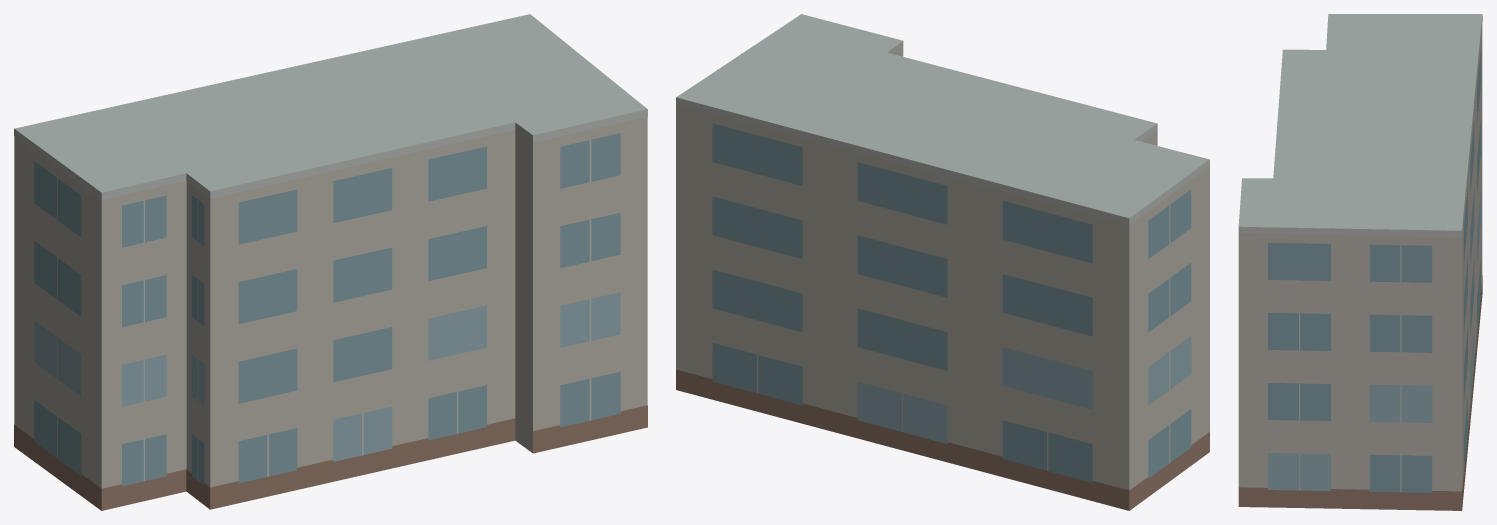
Rendered from survey-upis-33007770.glb.
The picture shows the model from 3 angles, left to right: view 1: azimuth 30°, elevation 25°; view 2: azimuth 150°, elevation 25°; view 3: azimuth 270°, elevation 25°; orthographic projection. The views are drawn at different scales.
Parts seen in each view (by area): view 1: survey-upis-33007770.tmp; view 2: survey-upis-33007770.tmp; view 3: survey-upis-33007770.tmp.
Boxes of the visible parts, left/top/right/bottom form: survey-upis-33007770.tmp: left=14, top=14, right=647, bottom=510; survey-upis-33007770.tmp: left=676, top=14, right=1209, bottom=510; survey-upis-33007770.tmp: left=1238, top=14, right=1482, bottom=510.
Size of the model in its own units: 17.44 by 10.5 by 8.29.
